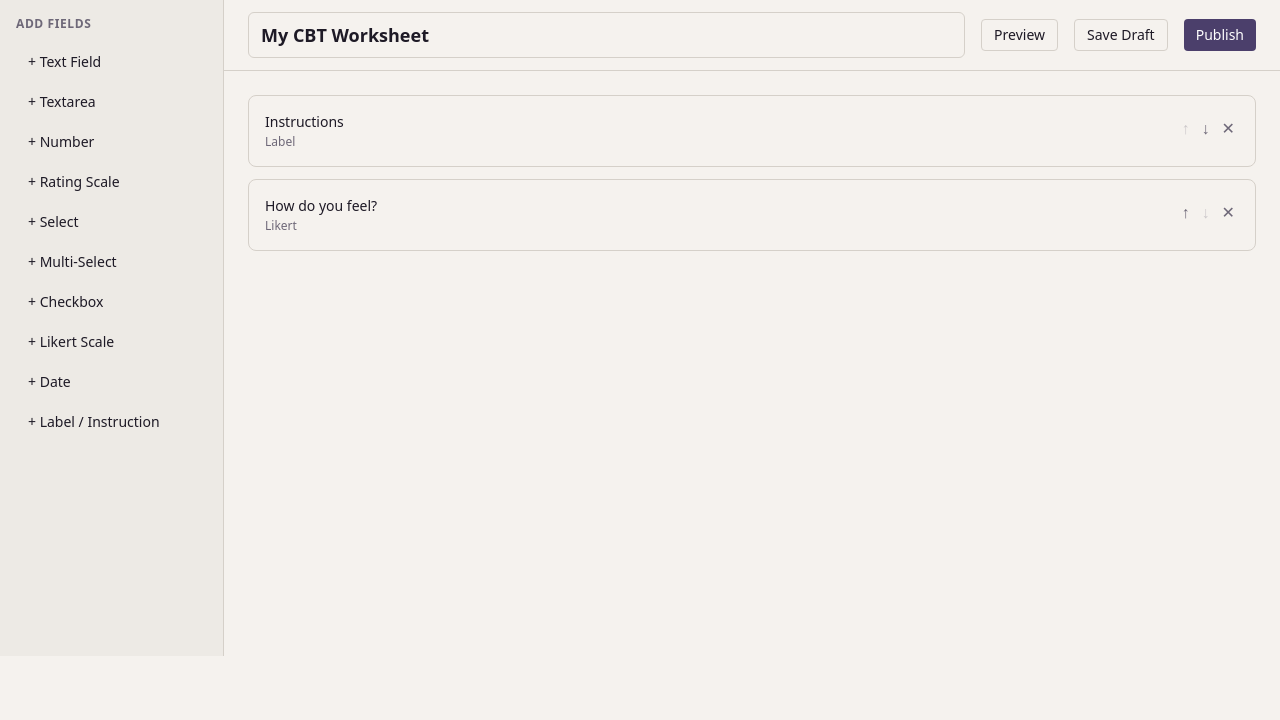
Test: Worksheet builder page › preview renders label and likert field types
Click the button "Preview": (1020, 35) [981, 19, 1058, 51]
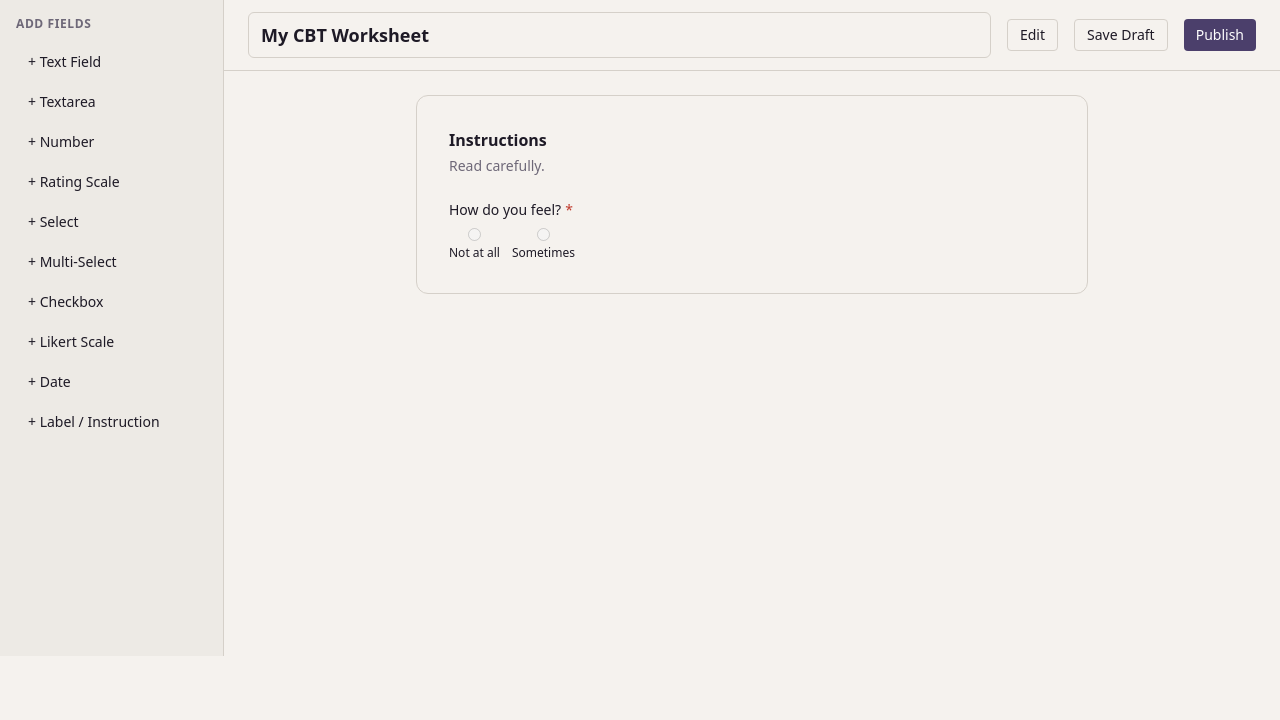
expect the text "Read carefully." is shown: met, box [449, 156, 545, 175]
expect the text "How do you feel?" is shown: met, box [449, 200, 561, 219]
expect the text "Not at all" is shown: met, box [449, 228, 500, 261]
